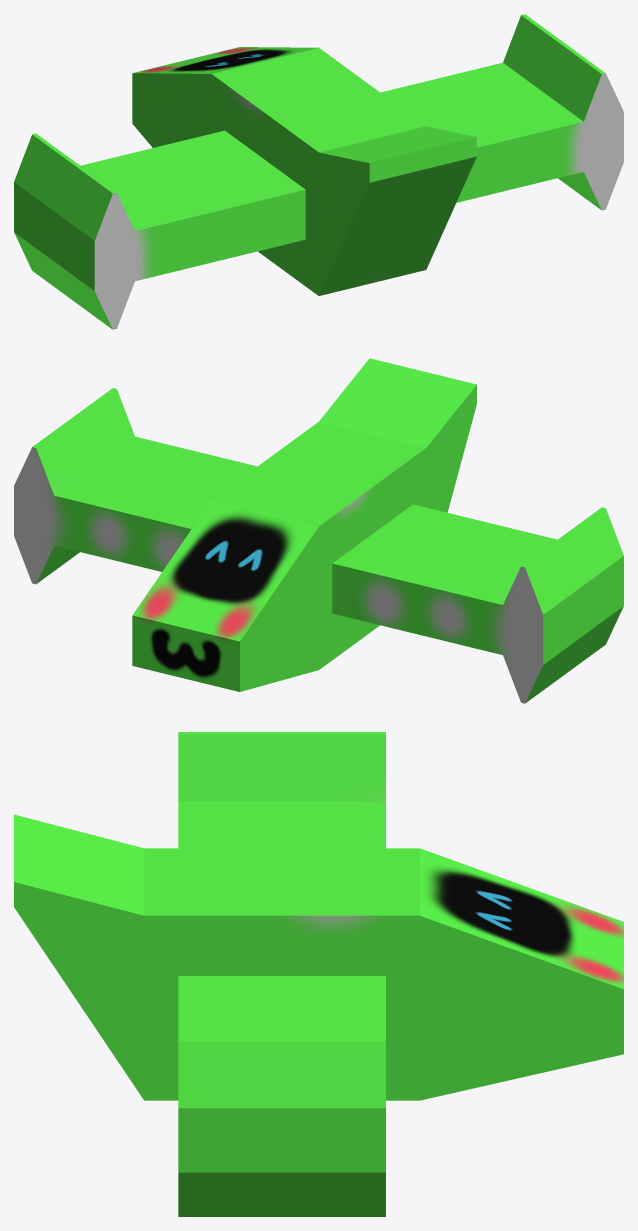
The model's file is ship3.glb.
3 views of the same model, one above another, from view 1: azimuth 30°, elevation 25°; view 2: azimuth 150°, elevation 25°; view 3: azimuth 270°, elevation 25° (orthographic). The views are drawn at different scales.
Parts seen in each view (by area): view 1: Cube; view 2: Cube; view 3: Cube.
Boxes of the visible parts, x1,y1,x2,y2 form: Cube: (14,14,623,329); Cube: (14,358,623,703); Cube: (14,732,623,1216).
Size of the model in its own units: 7.71 by 2.37 by 5.98.
1 material, 1 textured.
